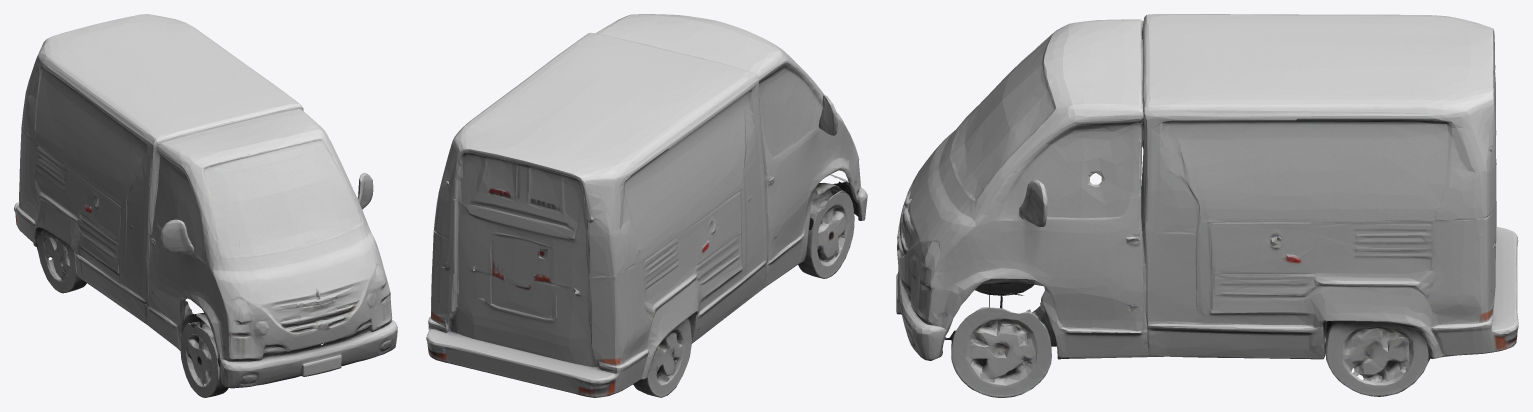
File: van.glb
3 renders of one model, left to right at view 1: azimuth 30°, elevation 25°; view 2: azimuth 150°, elevation 25°; view 3: azimuth 270°, elevation 25°, orthographic. The views are drawn at different scales.
Visible parts, largest first — view 1: world; view 2: world; view 3: world.
Part boxes in pixels (x1,y1,x2,y2): world: (14,14,397,397); world: (426,14,867,397); world: (896,14,1518,397).
Size of the model in its own units: 0.5211 by 0.5093 by 0.9986.
1 material, 1 textured.
